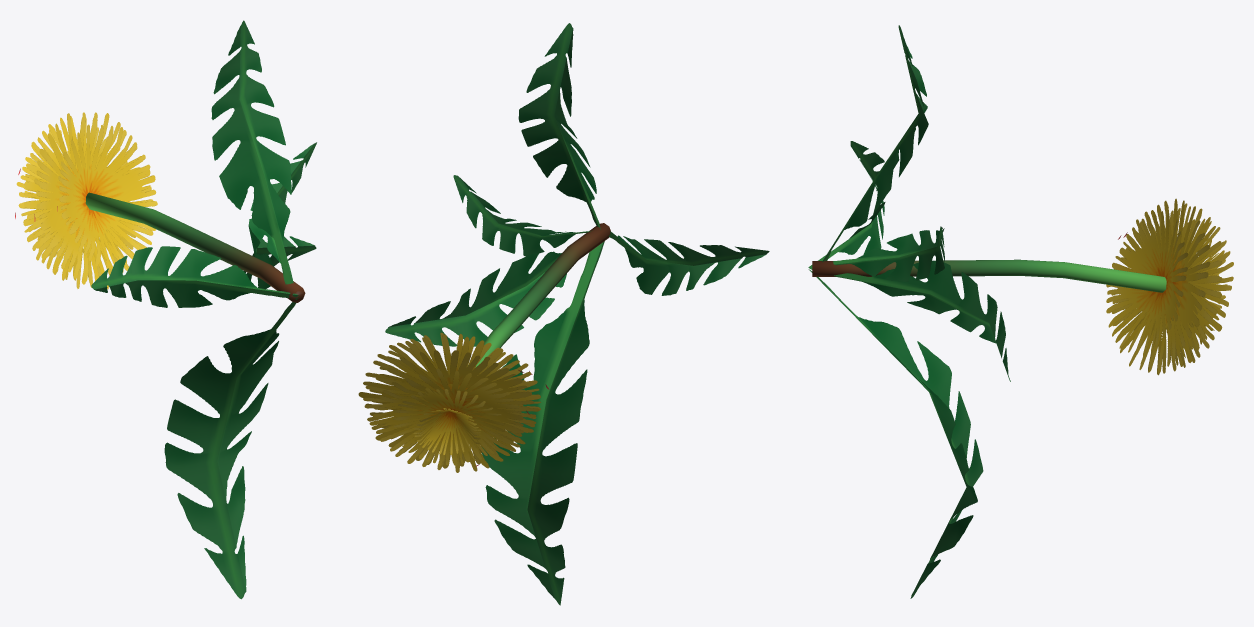
The model's file is SM_Dandelion_Small.fbx.
3 renders of one model, left to right at view 1: azimuth 30°, elevation 25°; view 2: azimuth 150°, elevation 25°; view 3: azimuth 270°, elevation 25°, orthographic. The views are drawn at different scales.
Visible parts, largest first — view 1: Dandelion_Small; view 2: Dandelion_Small; view 3: Dandelion_Small.
Part boxes in pixels (x1,y1,x2,y2): Dandelion_Small: (15, 20, 316, 599); Dandelion_Small: (358, 23, 769, 605); Dandelion_Small: (808, 25, 1233, 598).
Bounding box in the file's own units: 99.24 × 178 × 118.
